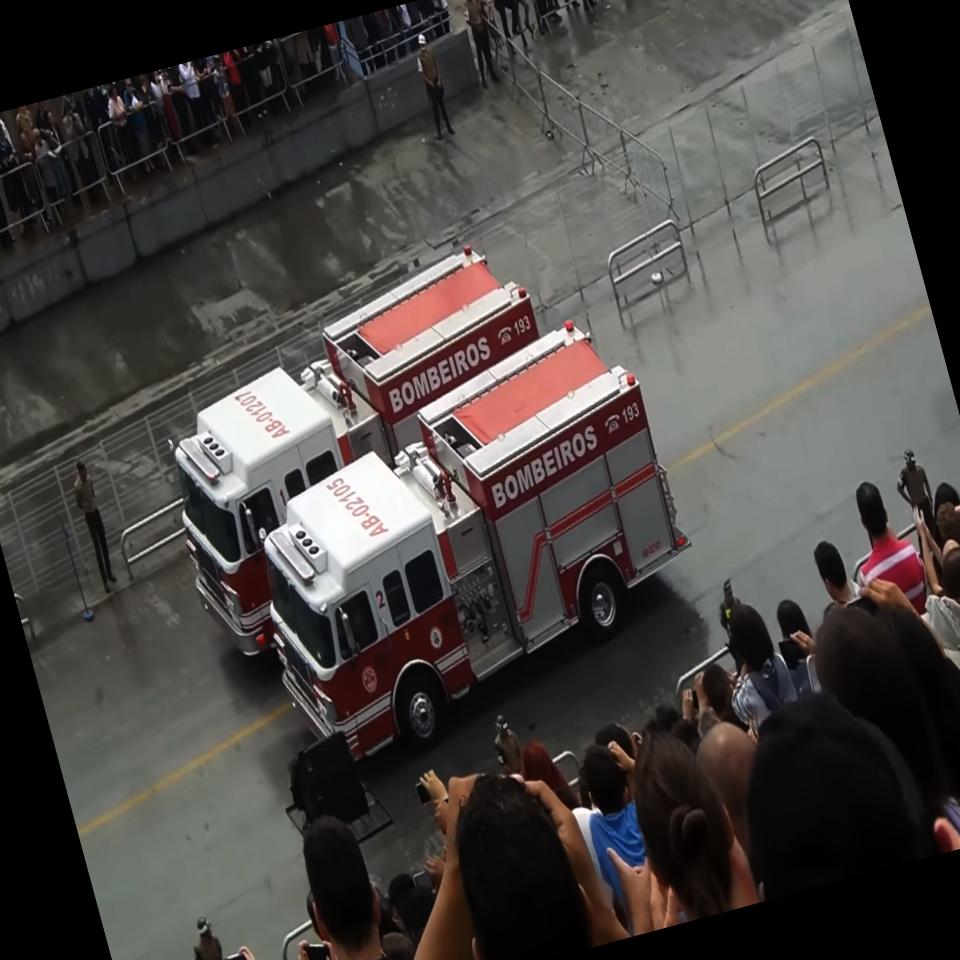viatura: (211, 304, 726, 783), (128, 232, 602, 666)
